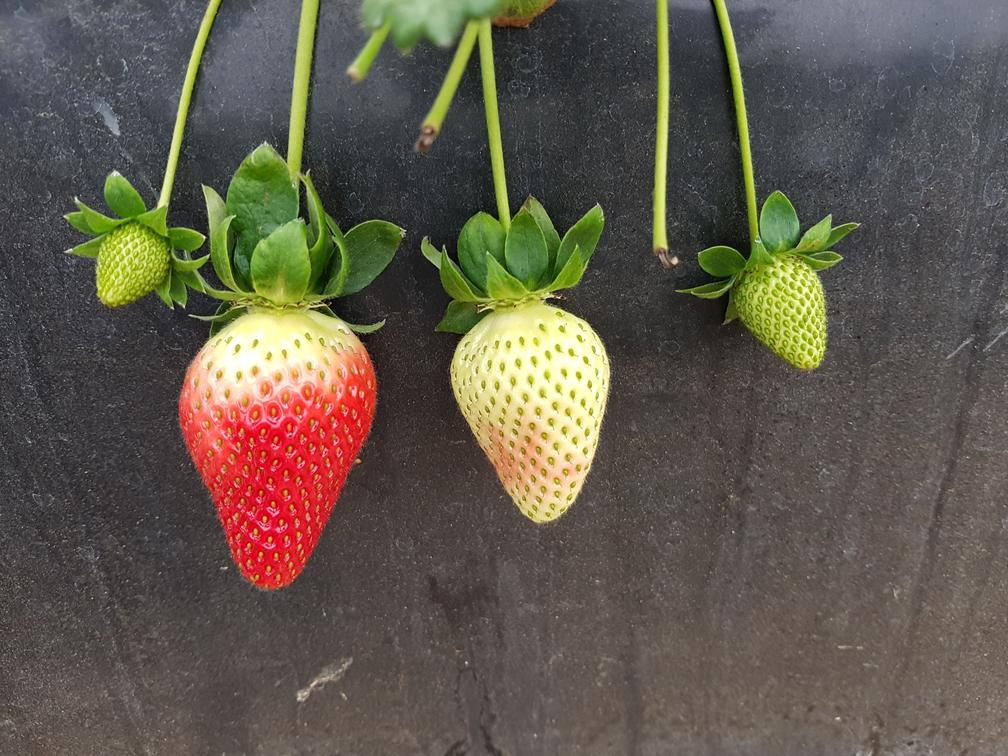Ripe: (181, 316, 383, 597)
Unripe: (446, 304, 626, 529), (732, 250, 845, 378), (84, 221, 180, 312)
